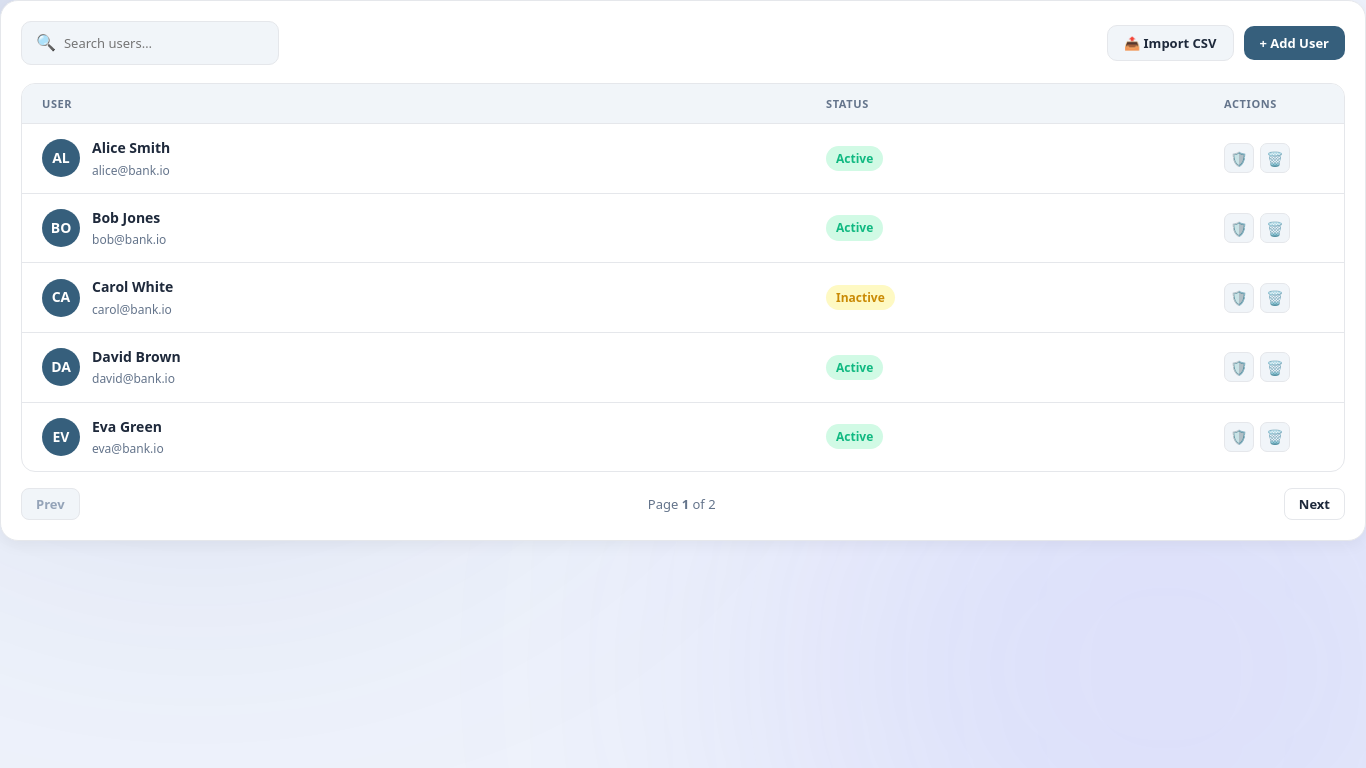
Test: Add User modal › TC-24: closes modal on overlay click
The image size is (1366, 768).
Click the button "+ Add User" at (1294, 43), box x1=1244 y1=26 x2=1345 y2=60
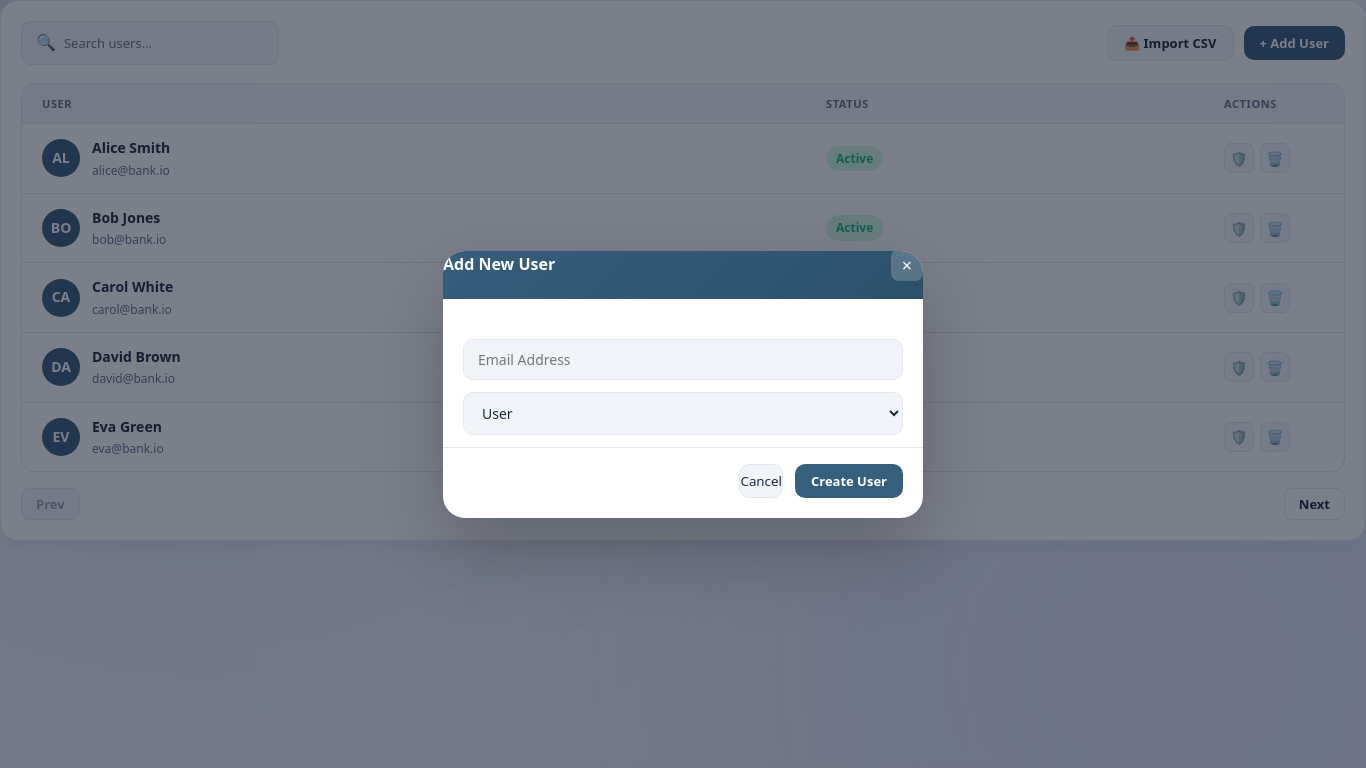
Click the element with class "modal-overlay" at (82, 384), box x1=0 y1=0 x2=1365 y2=767
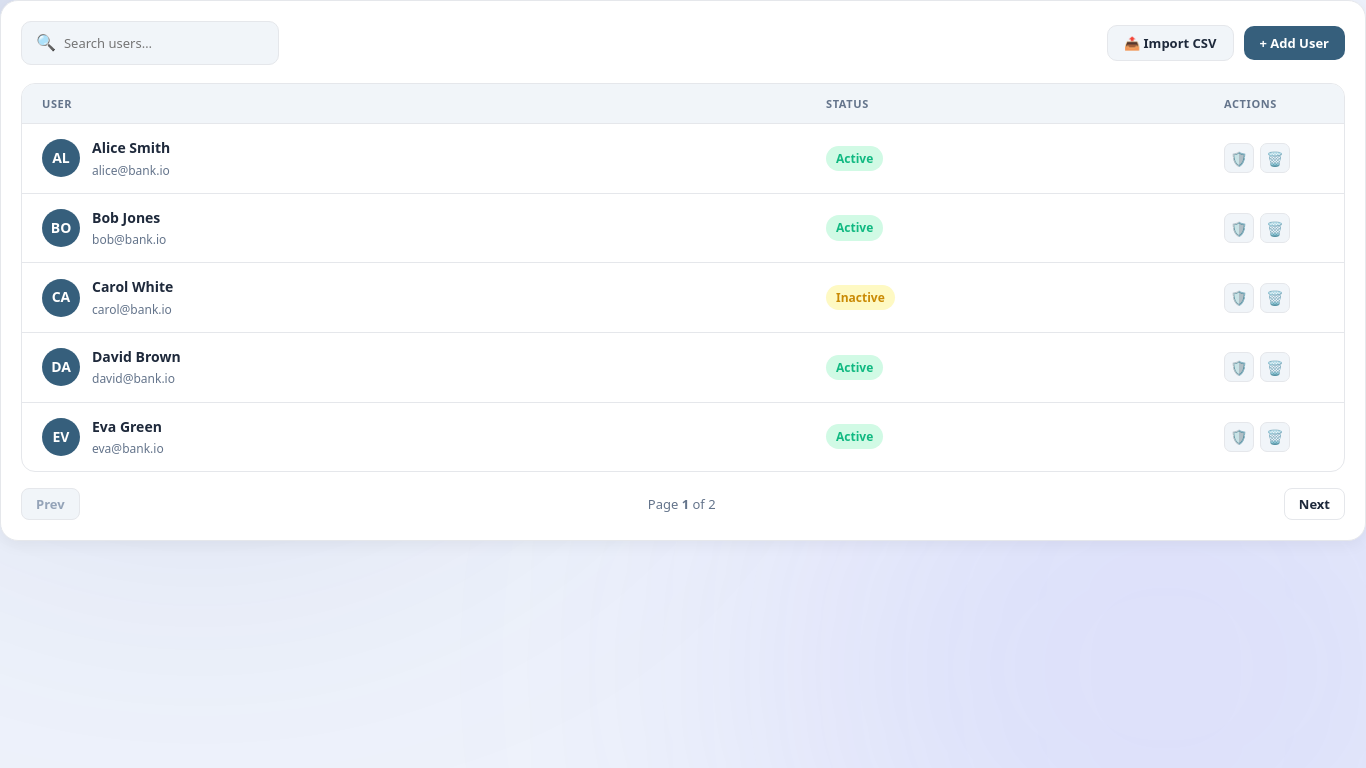
Expected: the heading "Add New User" is gone
